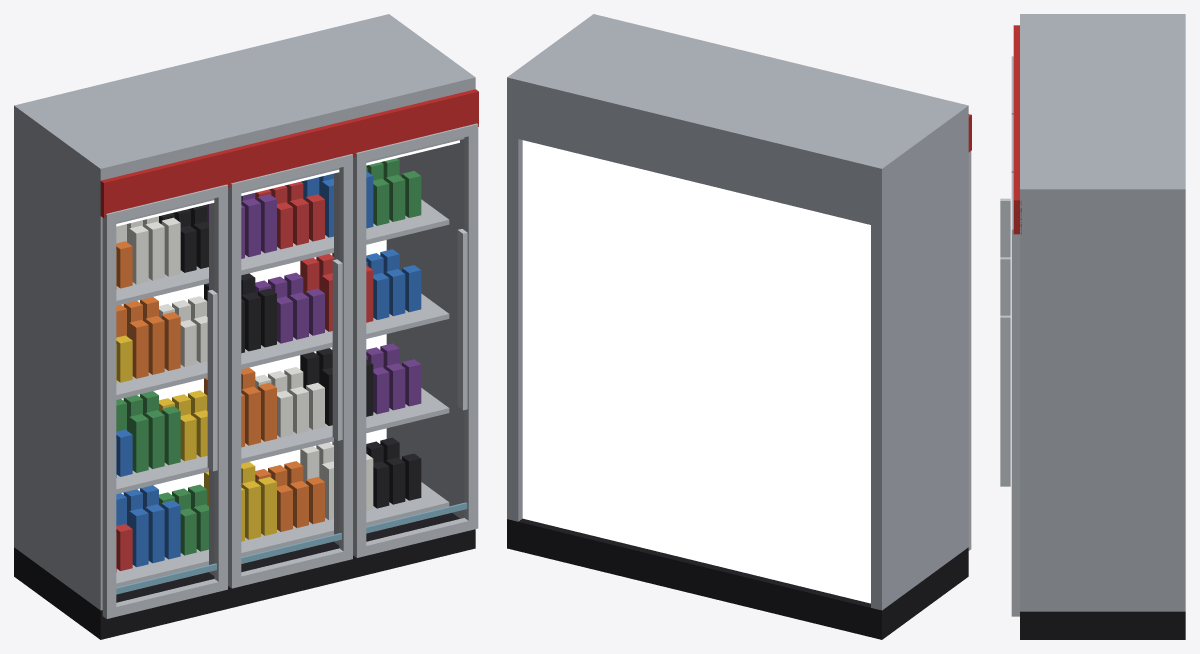
File: Drink_Cooler_Wall_Doors.glb
3 views of the same model, side by side, from view 1: azimuth 30°, elevation 25°; view 2: azimuth 150°, elevation 25°; view 3: azimuth 270°, elevation 25° (orthographic). The views are drawn at different scales.
Visible parts, largest first — view 1: Drink_Cooler_Wall_Doors; view 2: Drink_Cooler_Wall_Doors; view 3: Drink_Cooler_Wall_Doors.
Part boxes in pixels (<box>): Drink_Cooler_Wall_Doors: <box>14,14,478,639</box>; Drink_Cooler_Wall_Doors: <box>507,14,971,639</box>; Drink_Cooler_Wall_Doors: <box>1000,14,1185,639</box>.
Bounding box in the file's own units: 2 × 2.4 × 0.895.
Materials: 1 (1 with a texture image).
